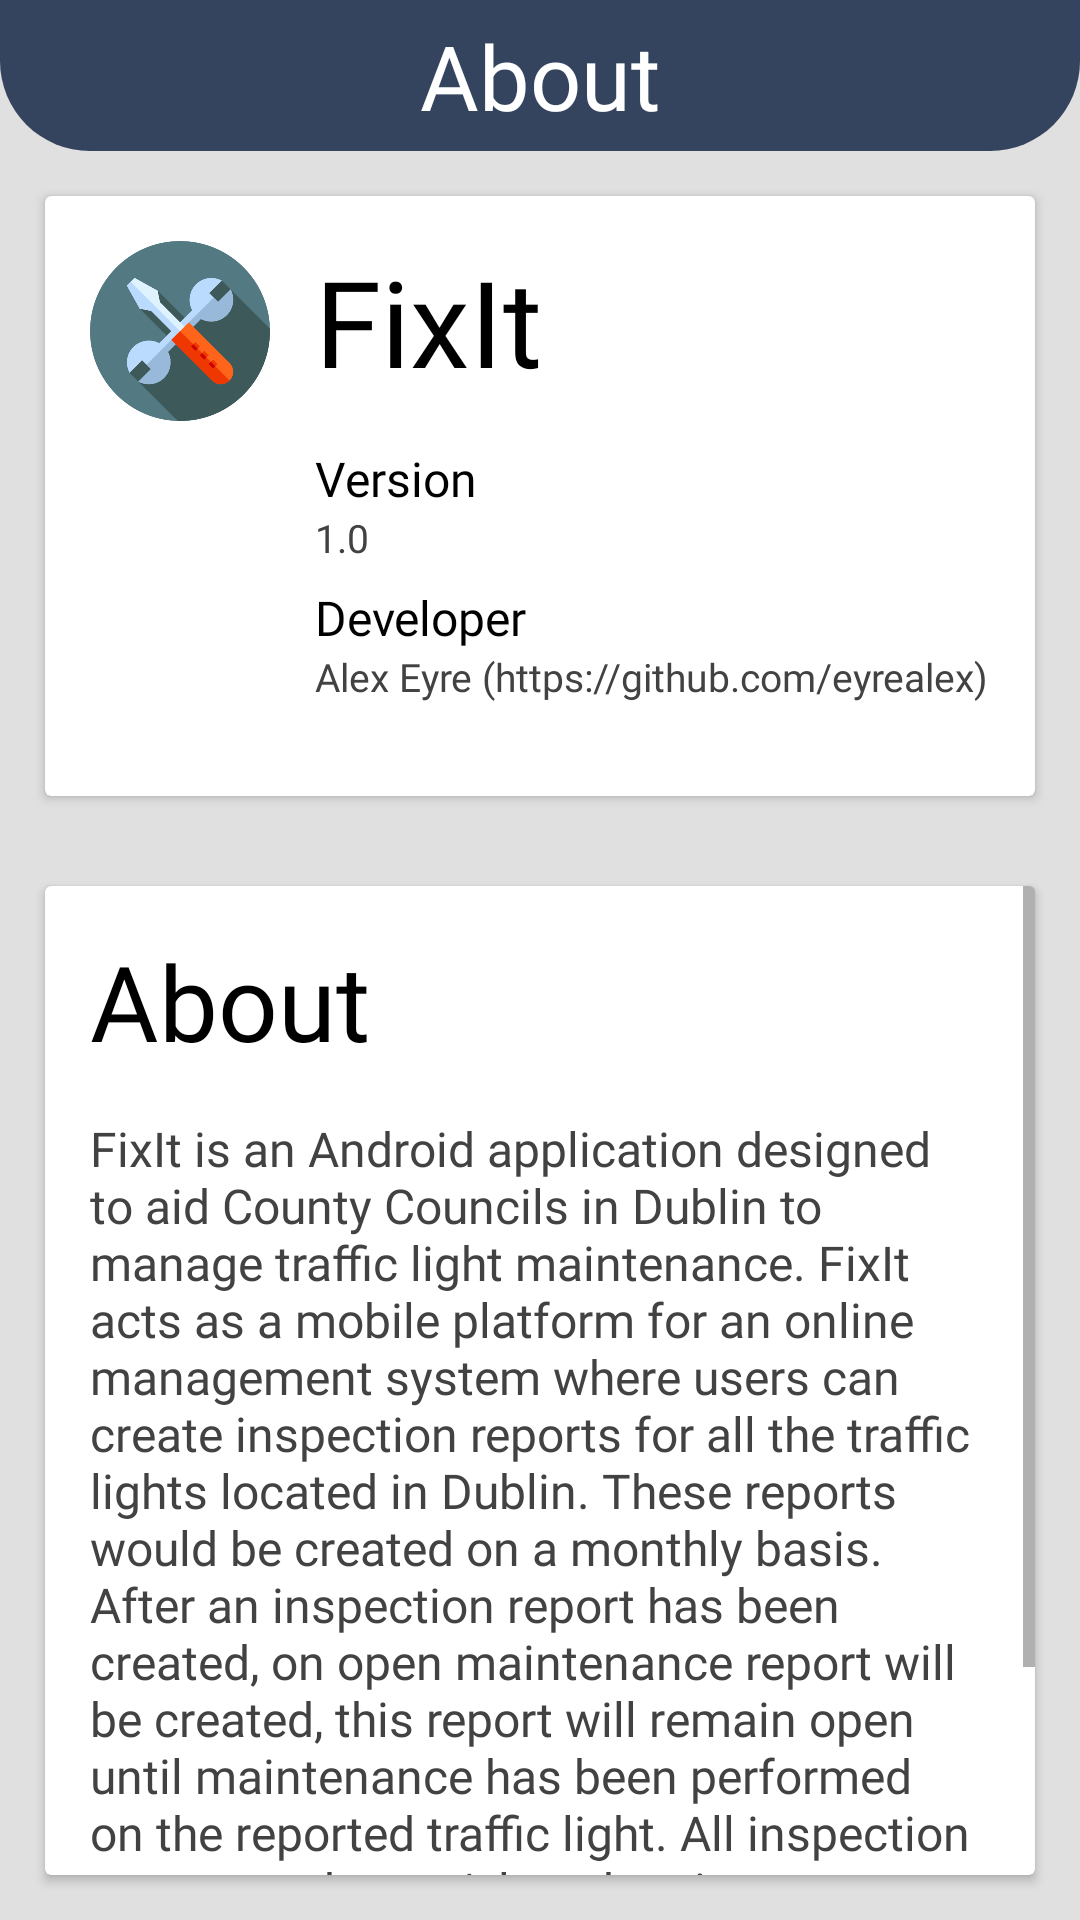

Locate icon controls on the screen. Image size 1080x1920, boxes as BBox(x1, y1, x2, y2).
app: BBox(90, 241, 270, 421)
